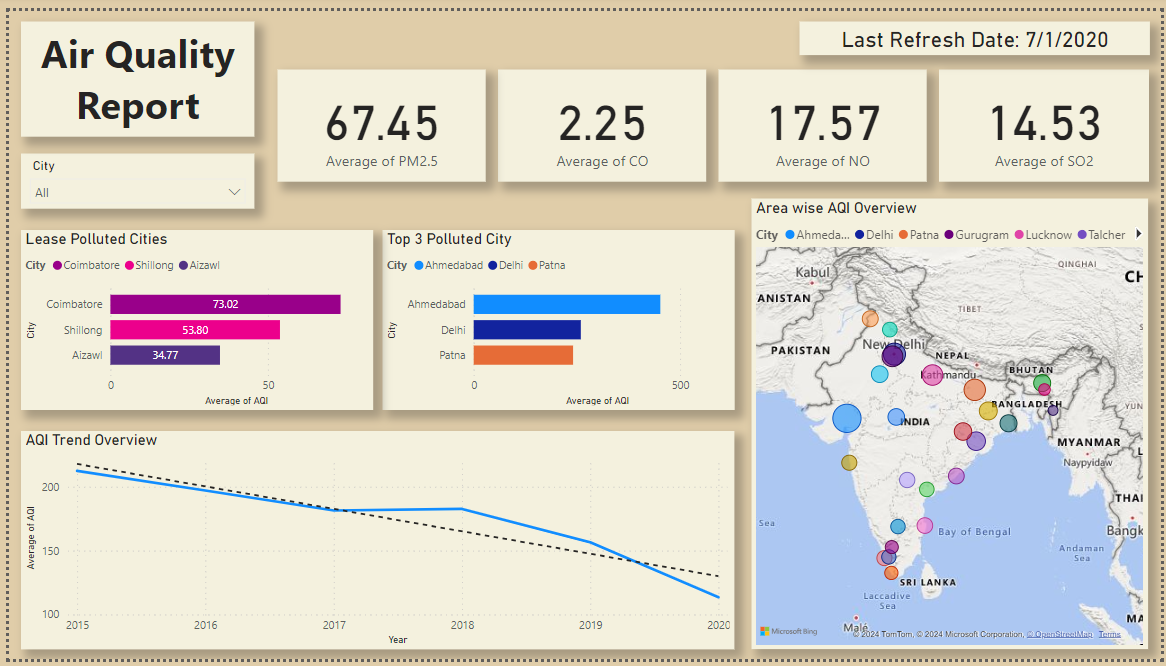

Layout of this report page (visuals, bound fields, positions):
{"tool":"powerbi","page":{"name":"Page 1","canvas":[1280,720],"ordinal":0},"visuals":[{"type":"lineChart","title":"AQI Trend Overview","fields":{"Category":["city_day.Date.Variation.Date Hierarchy.Year","city_day.Date.Variation.Date Hierarchy.Quarter","city_day.Date.Variation.Date Hierarchy.Month","city_day.Date.Variation.Date Hierarchy.Day"],"Y":["Avg(city_day.AQI)"]},"box":[13.7,466.3,792.6,242.6],"z":0},{"type":"slicer","fields":{"Values":["city_day.City"]},"box":[13.7,158.9,259.6,61.5],"z":1000},{"type":"barChart","title":"Top 3 Polluted City","fields":{"Category":["city_day.City"],"Y":["Avg(city_day.AQI)"],"Series":["city_day.City"]},"box":[415.1,242.6,391.2,199.9],"z":2000},{"type":"barChart","title":"Lease Polluted Cities","fields":{"Category":["city_day.City"],"Y":["Avg(city_day.AQI)"],"Series":["city_day.City"]},"box":[13.7,242.6,391.2,199.9],"z":3000},{"type":"card","fields":{"Values":["Avg(city_day.CO)"]},"box":[543,65.6,231.5,124.7],"z":4000},{"type":"card","fields":{"Values":["Avg(city_day.NO)"]},"box":[788,65.6,231.5,124.7],"z":5000},{"type":"card","fields":{"Values":["Avg(city_day.SO2)"]},"box":[1033.1,65.6,233.2,124.7],"z":6000},{"type":"card","fields":{"Values":["Avg(city_day.PM2.5)"]},"box":[297.9,65.6,231.5,124.7],"z":7000},{"type":"map","title":"Area wise AQI Overview","fields":{"Category":["city_day.City"],"Size":["Avg(city_day.AQI)"],"Series":["city_day.City"]},"box":[825.8,208.9,440.4,500.3],"z":8000},{"type":"textbox","box":[13.7,12,259.6,128.1],"z":9000},{"type":"card","fields":{"Values":["city_day.MAX Date"]},"box":[878,12,389.5,37.6],"z":9001}]}

Visuals, with their boxes in screenshot pixels (x1, y1, x2, y2), scaled from the page's 1280x720 canvas onto the 1166x666 screenshot:
"AQI Trend Overview" lineChart: 12,431,734,656
slicer - city_day.City: 12,147,249,204
"Top 3 Polluted City" barChart: 378,224,734,409
"Lease Polluted Cities" barChart: 12,224,369,409
card - Avg(city_day.CO): 495,61,706,176
card - Avg(city_day.NO): 718,61,929,176
card - Avg(city_day.SO2): 941,61,1154,176
card - Avg(city_day.PM2.5): 271,61,482,176
"Area wise AQI Overview" map: 752,193,1153,656
textbox: 12,11,249,130
card - city_day.MAX Date: 800,11,1155,46
